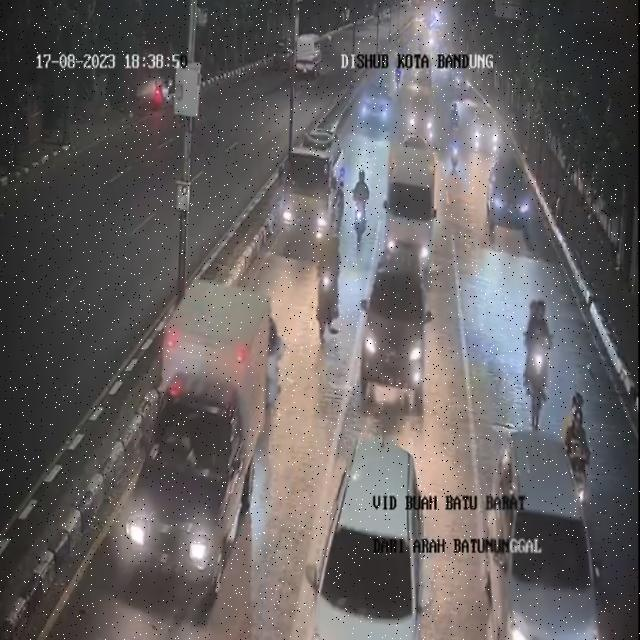cars: (111, 280, 258, 602), (483, 430, 605, 640), (312, 441, 439, 640), (164, 280, 284, 406), (357, 244, 431, 416), (378, 141, 434, 278), (281, 154, 336, 252), (490, 153, 536, 246), (354, 70, 394, 141), (403, 84, 434, 146)
motorcycle: (313, 218, 347, 350), (523, 292, 558, 416), (560, 391, 594, 498), (351, 168, 371, 238), (446, 126, 466, 190), (479, 113, 500, 169)
